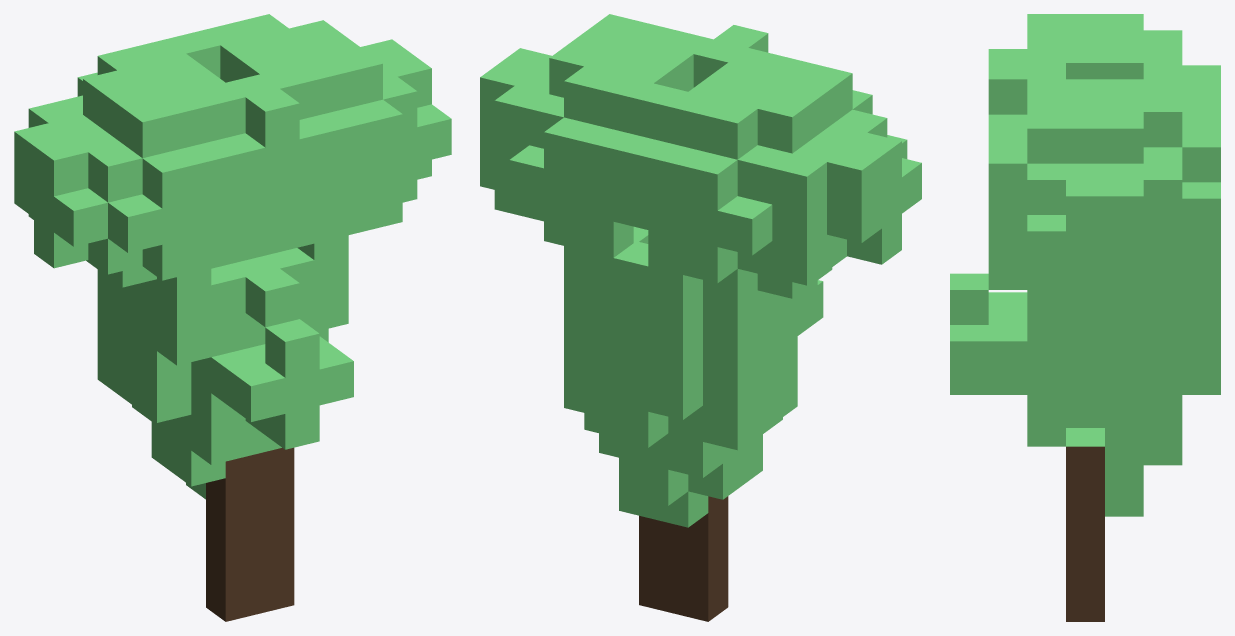
Rendered from tree12.fbx.
The picture shows the model from 3 angles, left to right: view 1: azimuth 30°, elevation 25°; view 2: azimuth 150°, elevation 25°; view 3: azimuth 270°, elevation 25°; orthographic projection. The views are drawn at different scales.
Visible parts, largest first — view 1: Sphere.030; view 2: Sphere.030; view 3: Sphere.030.
Boxes of the visible parts, x1,y1,x2,y2 form: Sphere.030: (14,14,451,621); Sphere.030: (480,14,921,621); Sphere.030: (950,14,1220,621).
Bounding box in the file's own units: 627 × 855 × 399.
